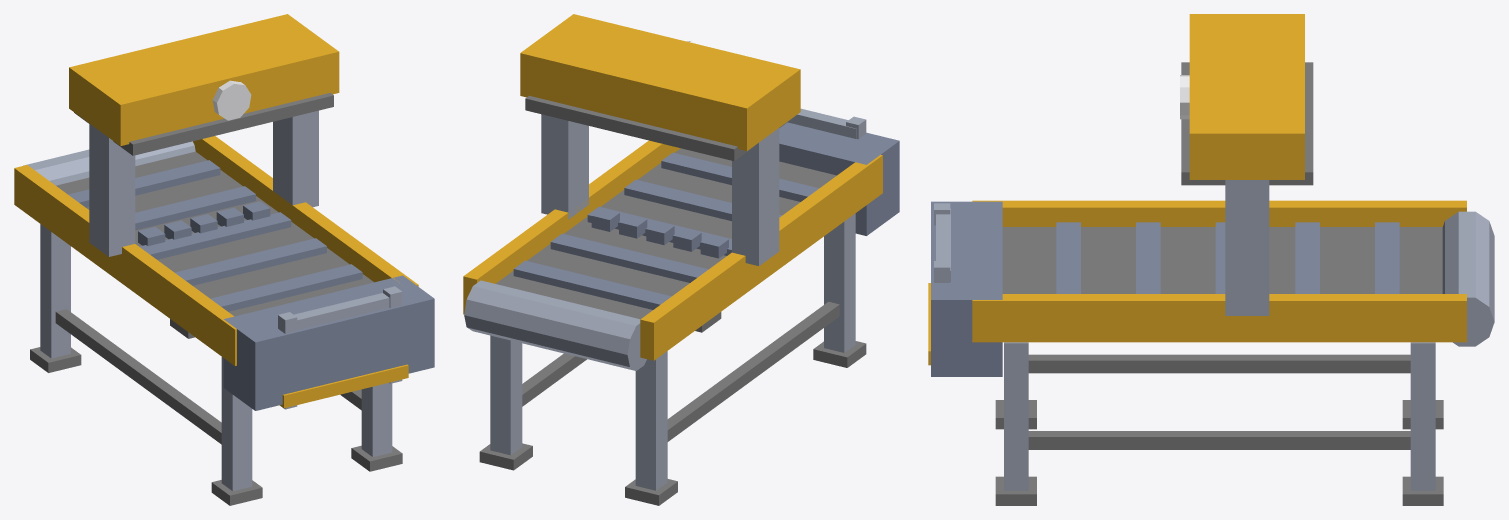
File: press_belt.glb
3 views of the same model, side by side, from view 1: azimuth 30°, elevation 25°; view 2: azimuth 150°, elevation 25°; view 3: azimuth 270°, elevation 25° (orthographic). The views are drawn at different scales.
Parts seen in each view (by area): view 1: press_belt; view 2: press_belt; view 3: press_belt.
Part boxes in pixels (left/top/right/bottom): press_belt: left=14, top=14, right=434, bottom=505; press_belt: left=463, top=14, right=899, bottom=505; press_belt: left=928, top=14, right=1494, bottom=505.
Bounding box in the file's own units: 1 × 1.5 × 2.
